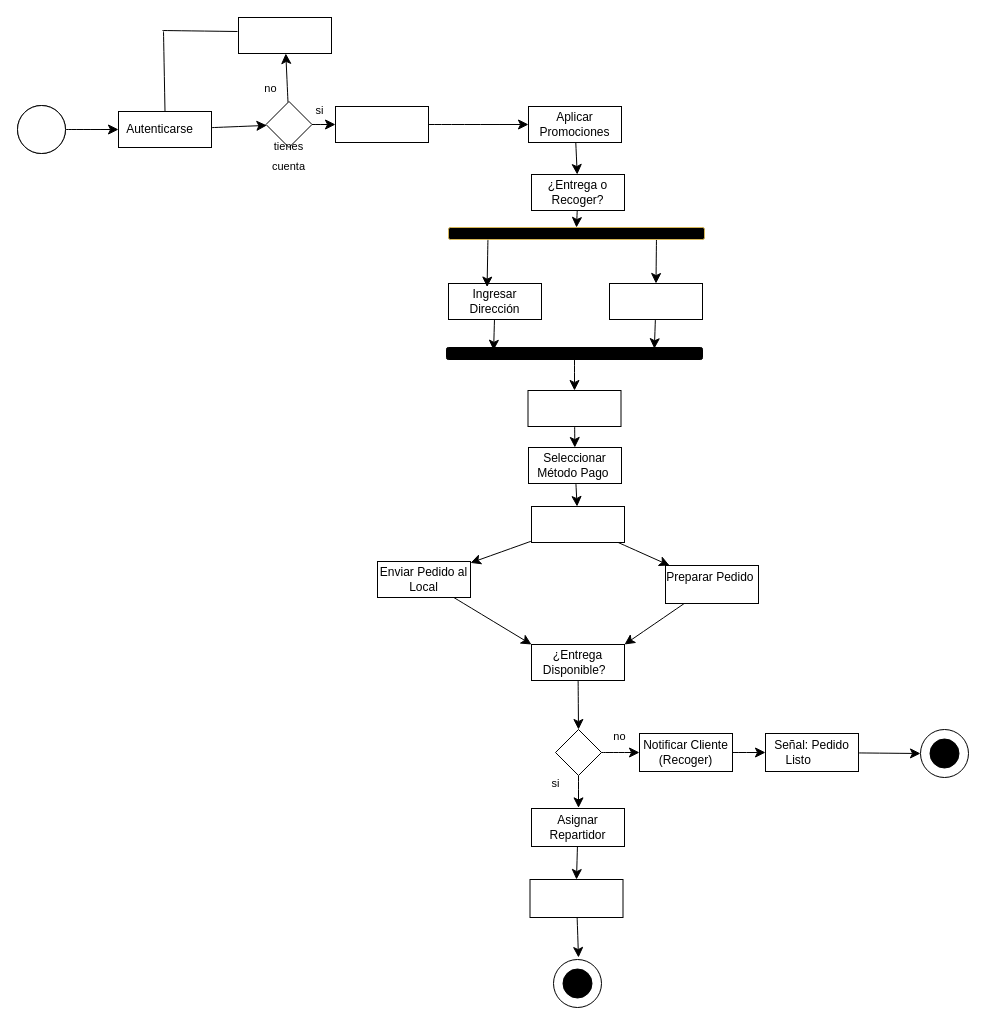
Image size: 986x1025. Some labels were removed from this diagram. The shapes that lost their labels are listed below. From the top down, each one's centre as x and y in pixels, then its label:
point 285,35: Crear cuenta
point 381,124: Elegir Productos
point 655,301: Elegir Local
point 574,408: Ver Ruta Estimada
point 577,524: Confirmar Pedido
point 576,898: Señal: Pedido en Camino
